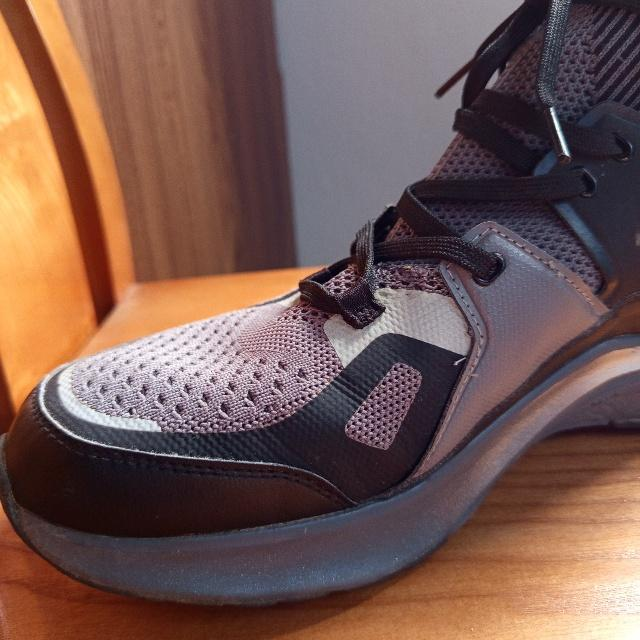broken: (544, 255, 566, 280)
